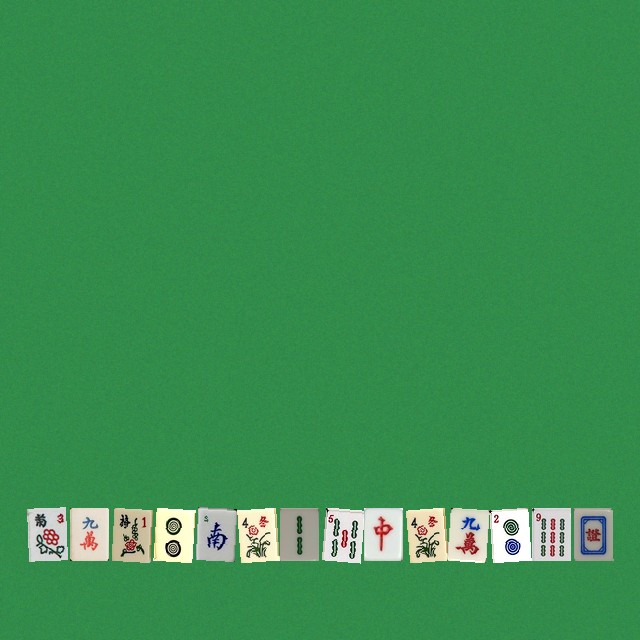tile: (27, 507, 66, 560), (69, 507, 108, 560), (111, 507, 150, 560), (153, 507, 192, 560), (195, 507, 234, 560), (237, 507, 276, 560), (279, 507, 318, 560), (321, 507, 360, 560), (363, 507, 402, 560), (405, 507, 444, 560), (447, 507, 486, 560), (489, 507, 528, 560), (531, 507, 570, 560), (573, 507, 612, 560)
